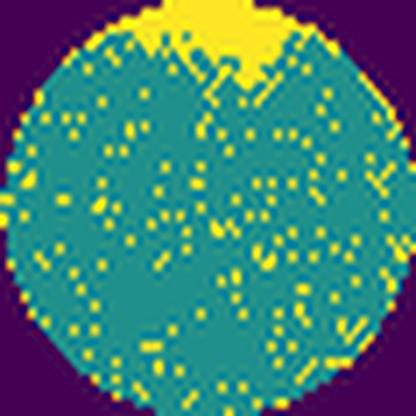Edge-Loc: (113, 0, 313, 90)
